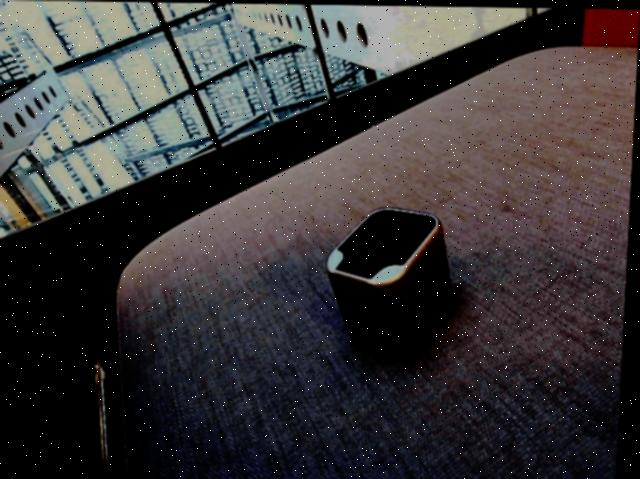adapter: (325, 204, 456, 349)
